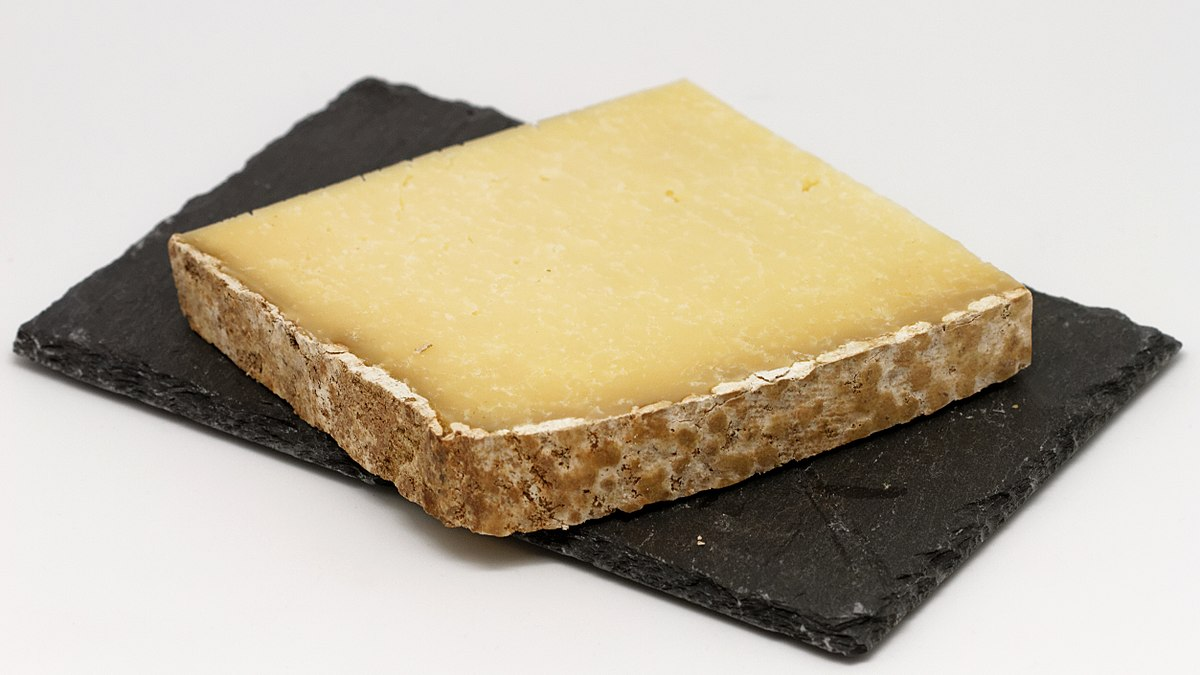cheese: (172, 24, 1062, 564)
